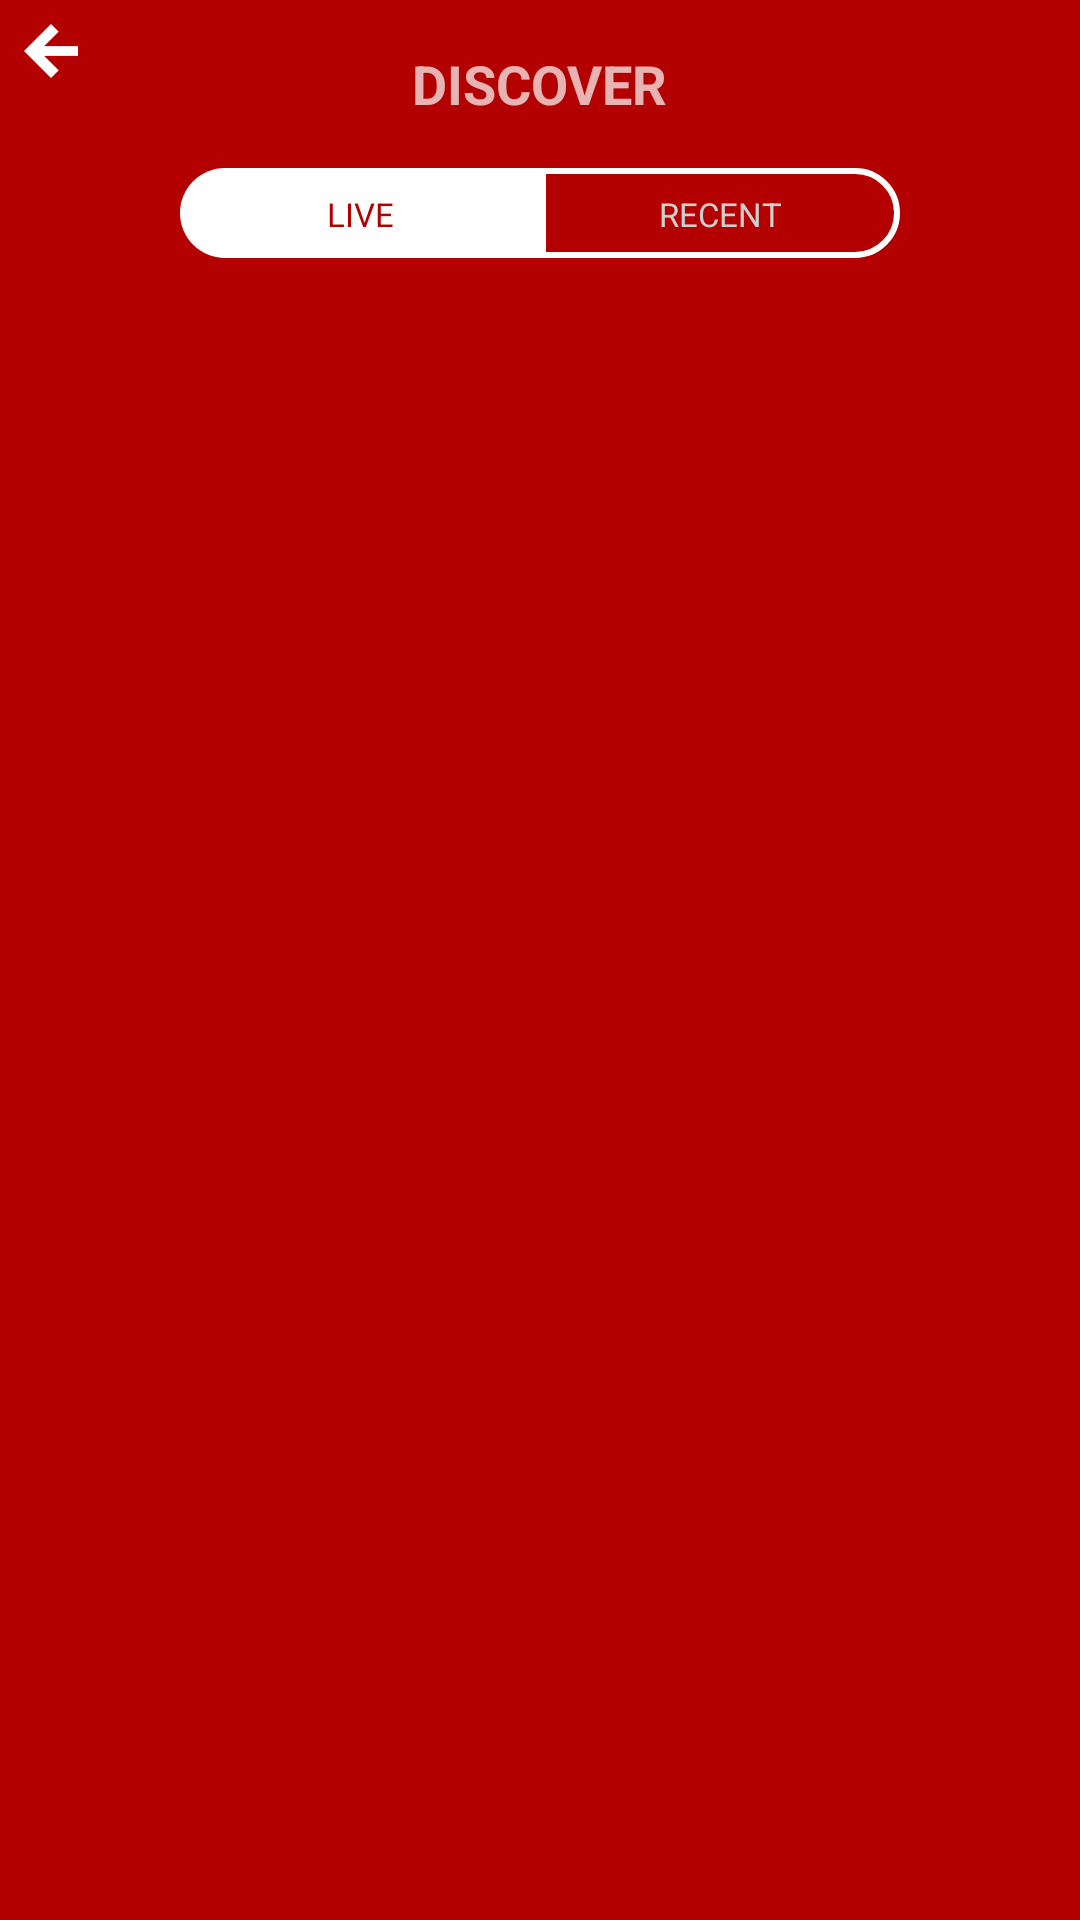

Where icons sit on this 1080w x 1920h app screen, as (x1, y1, x2, y2):
arrow left: (24, 24, 78, 78)
